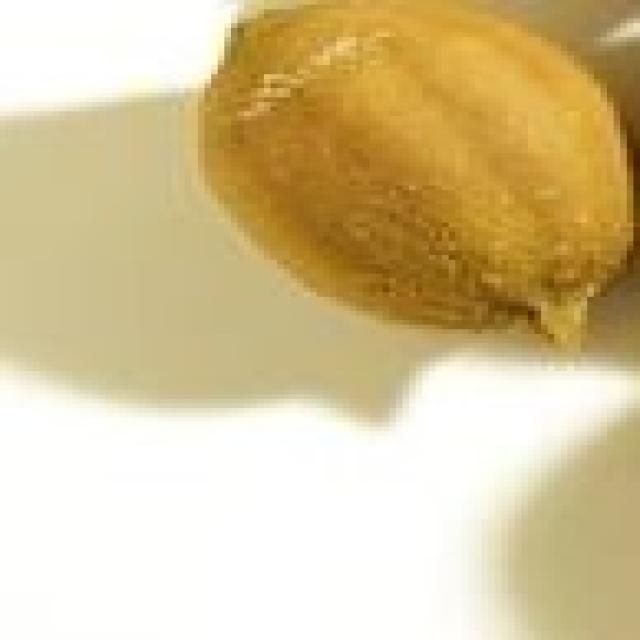overripe: (179, 0, 640, 347)
